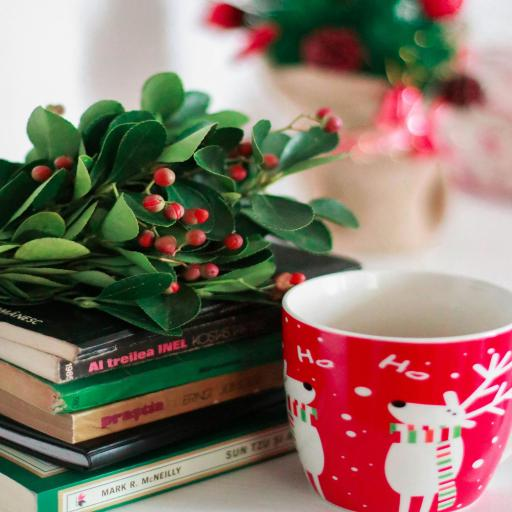cup: (282, 269, 512, 512)
